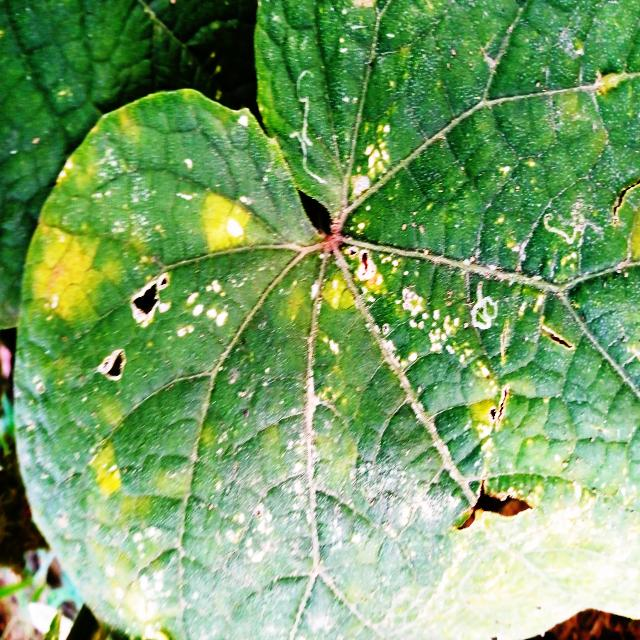Downy-Mildew: (10, 0, 638, 640)
